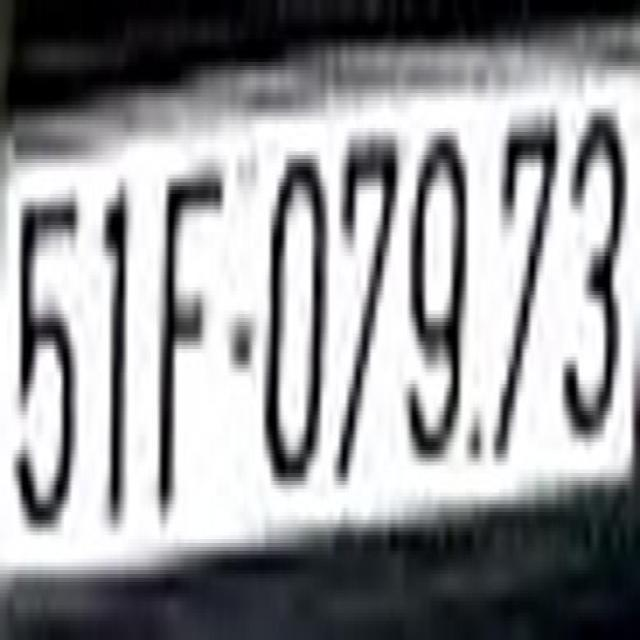0: (263, 120, 320, 477)
1: (100, 206, 130, 520)
3: (564, 89, 626, 446)
5: (17, 194, 78, 547)
7: (335, 116, 401, 508), (496, 86, 558, 473)
9: (409, 108, 469, 466)
F: (159, 159, 225, 528)
